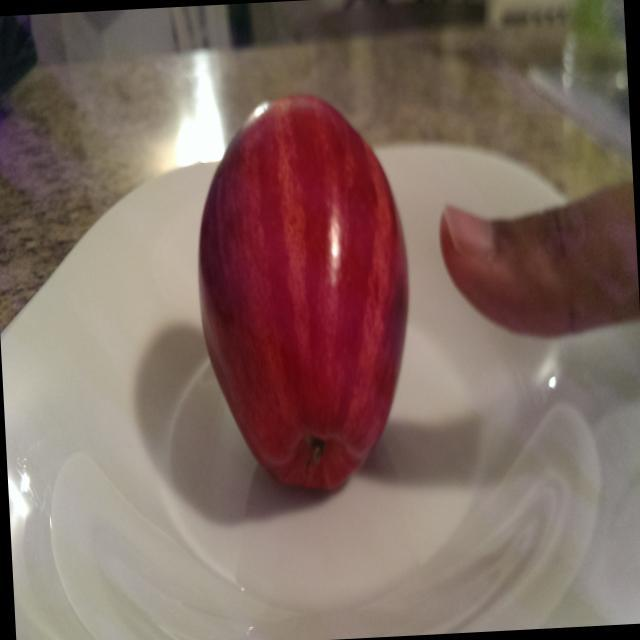Apple: (172, 79, 434, 511)
Finger: (430, 191, 592, 359)
